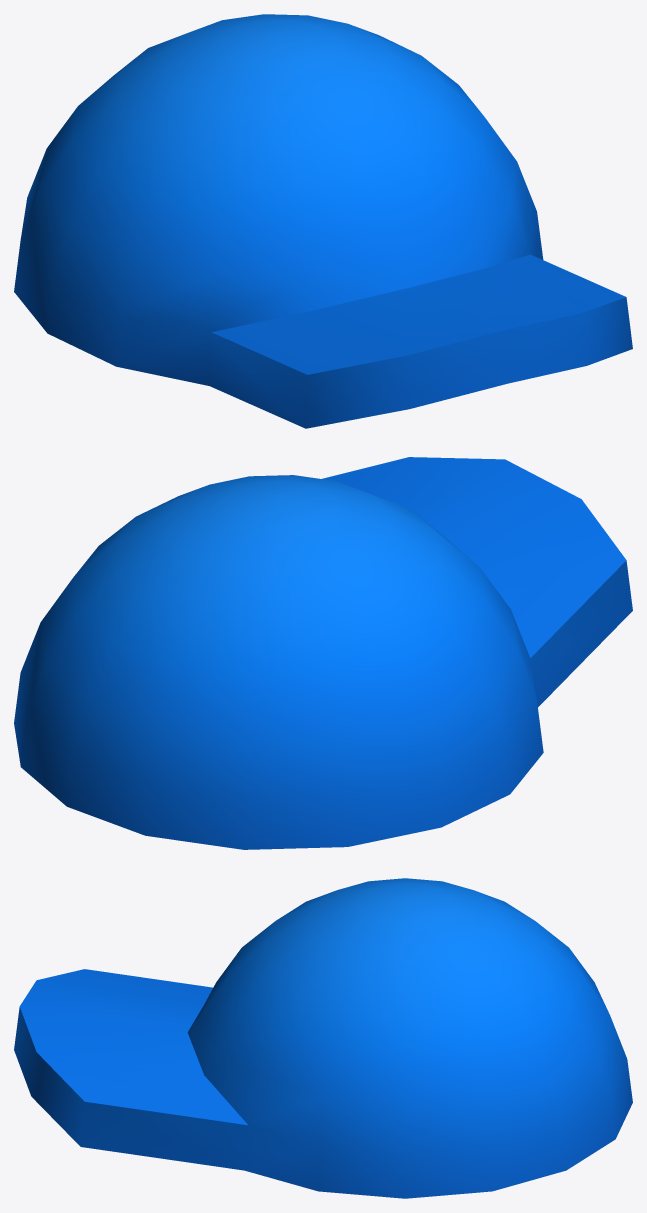
The model's file is Collectable_Cap_01.fbx.
The picture shows the model from 3 angles, top to bottom: view 1: azimuth 30°, elevation 25°; view 2: azimuth 150°, elevation 25°; view 3: azimuth 270°, elevation 25°; orthographic projection. The views are drawn at different scales.
Visible parts, largest first — view 1: Collectable_Cap_01; view 2: Collectable_Cap_01; view 3: Collectable_Cap_01.
Boxes of the visible parts, box(x1,y1,x2,y2) form: Collectable_Cap_01: box(14, 14, 632, 428); Collectable_Cap_01: box(14, 457, 632, 849); Collectable_Cap_01: box(14, 878, 632, 1198).
Bounding box in the file's own units: 92.72 × 45.86 × 126.
1 material, 1 textured.
